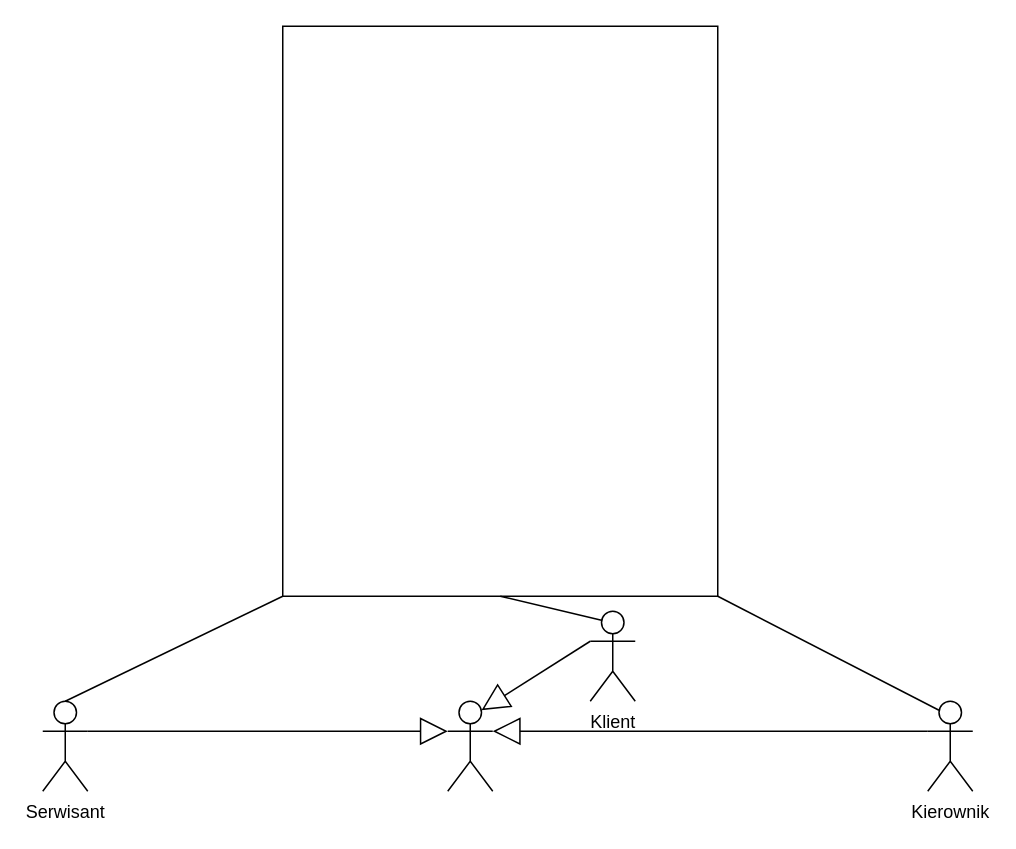
Some shapes in this 1016 by 849 pixel diagram are drawn without their labels. Here are the shapes that lost their labels. From the top down, the centre of each, then its label:
the point at 499,310: System Kontroli Serwisu "SKS"
the point at 469,745: Użytkownik
